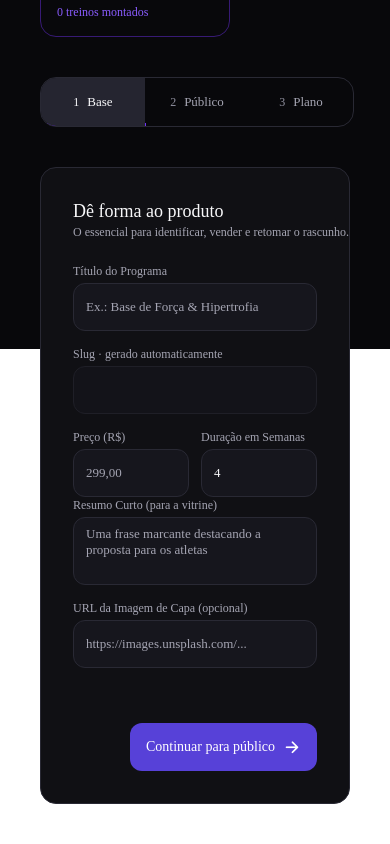
Scenario: ProgramBuilderScreen › atualiza a duração e expõe o planejador semanal após avançar ao plano
(page scrolled)
Type "3" into the field named "Duração em semanas".
click(259, 473); type("3")  # box [201,449,317,497]
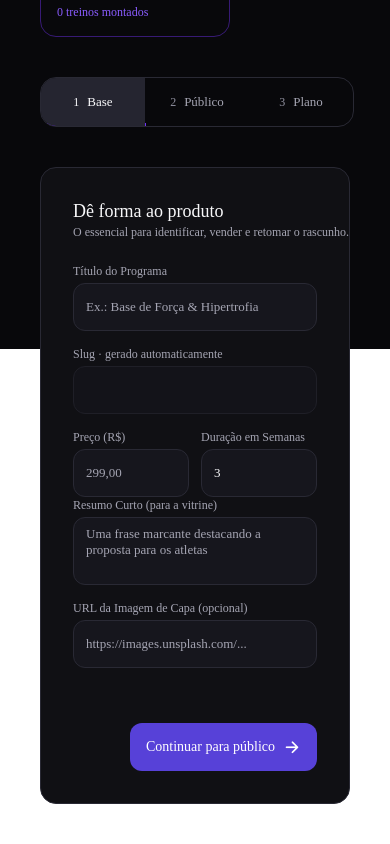
Click the tab with aria-label "Etapa 3: Plano".
click(301, 102)  # box [279,94,323,109]
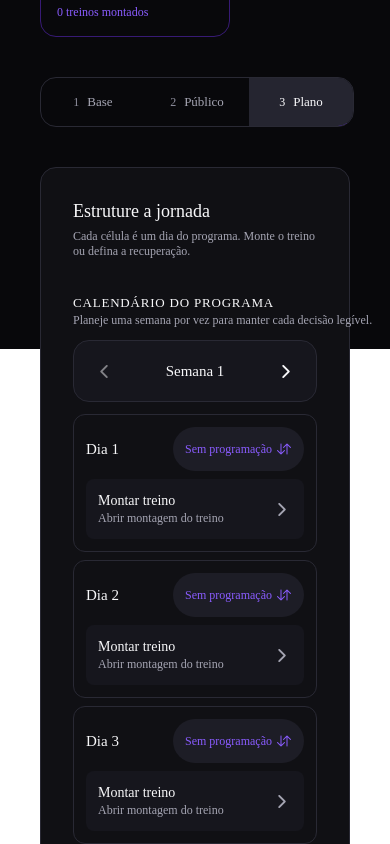
Expected: the text "Semana 1" is shown, [166,362,224,380]
Click the button named "Próxima semana".
click(286, 371)  # box [264,349,308,393]
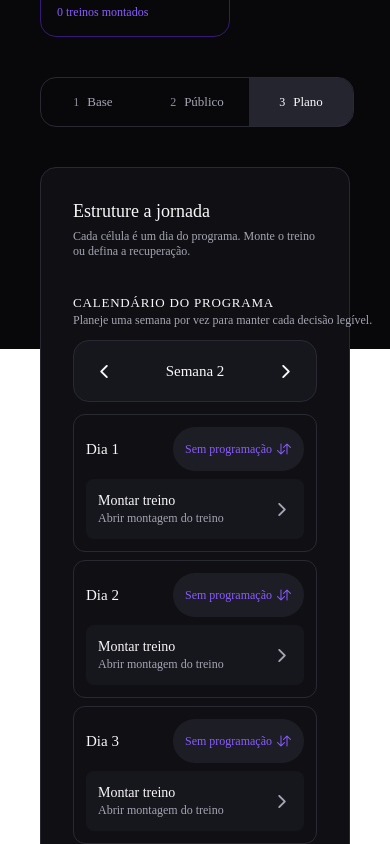
Expected: the text "Semana 2" is shown, [166,362,224,380]
